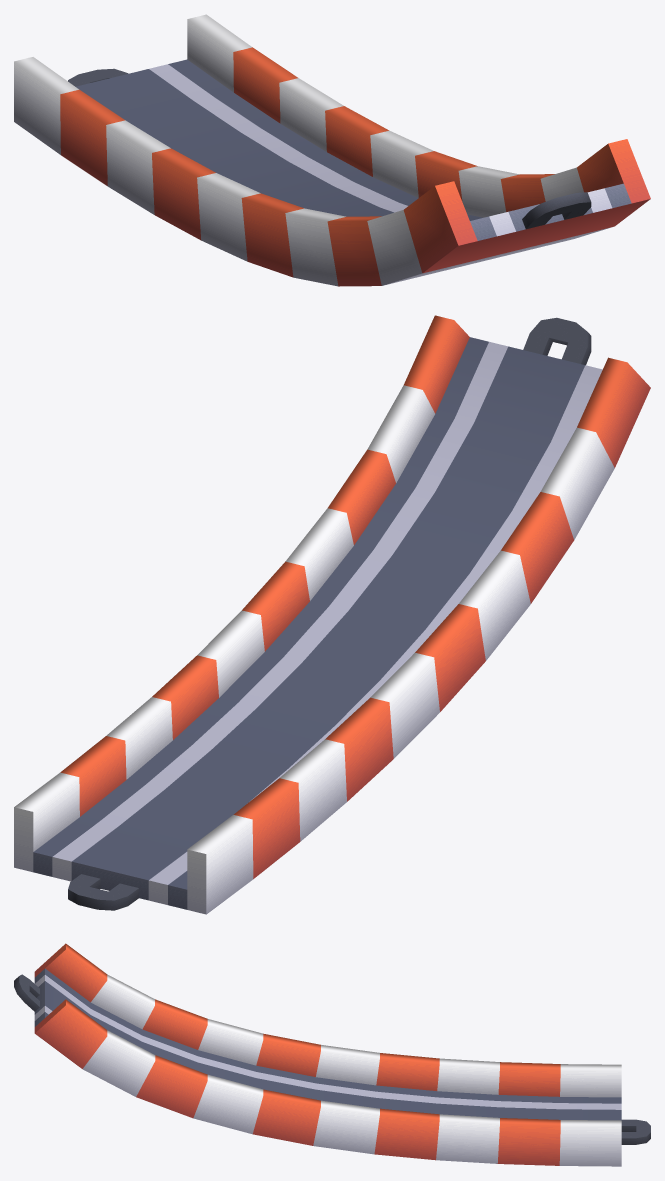
The model's file is track-road-narrow-straight-hill-beginning.glb.
3 renders of one model, top to bottom at view 1: azimuth 30°, elevation 25°; view 2: azimuth 150°, elevation 25°; view 3: azimuth 270°, elevation 25°, orthographic. The views are drawn at different scales.
Parts seen in each view (by area): view 1: track-road-narrow-straight-hill-beginning; view 2: track-road-narrow-straight-hill-beginning; view 3: track-road-narrow-straight-hill-beginning.
Part boxes in pixels (x1,y1,x2,y2): track-road-narrow-straight-hill-beginning: [14, 14, 650, 286]; track-road-narrow-straight-hill-beginning: [14, 315, 650, 914]; track-road-narrow-straight-hill-beginning: [14, 943, 650, 1166].
Size of the model in its own units: 3 by 3.64 by 13.02.
1 material, 1 textured.
